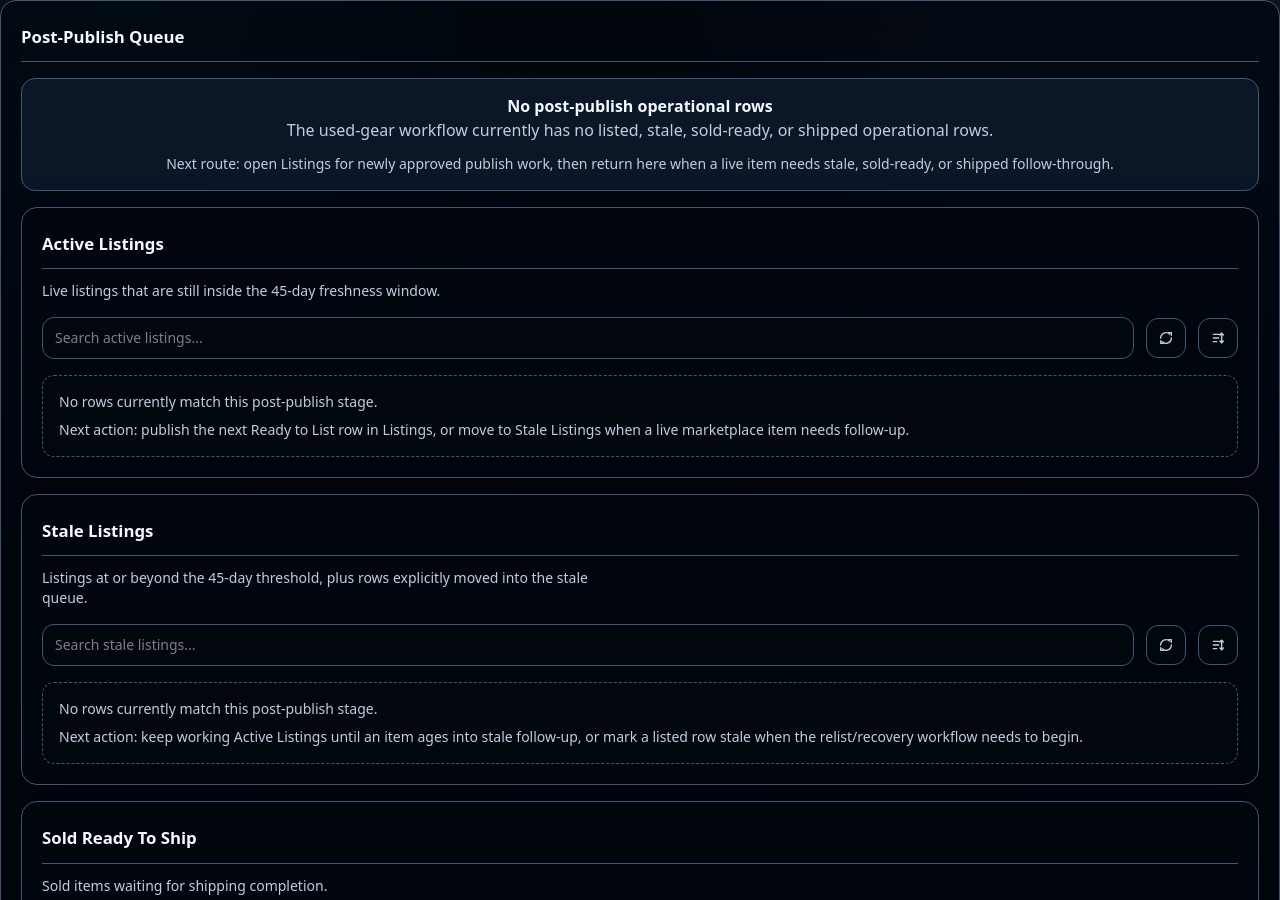
UsedGearWorkflowPostPublishSection › does not present an empty last-successful result as current after refresh fails
Expected: the text "No post-publish operational rows" is shown, [507, 95, 773, 117]
Click the button named "Refresh Active Listings" at (1166, 338), box [1146, 318, 1186, 358]
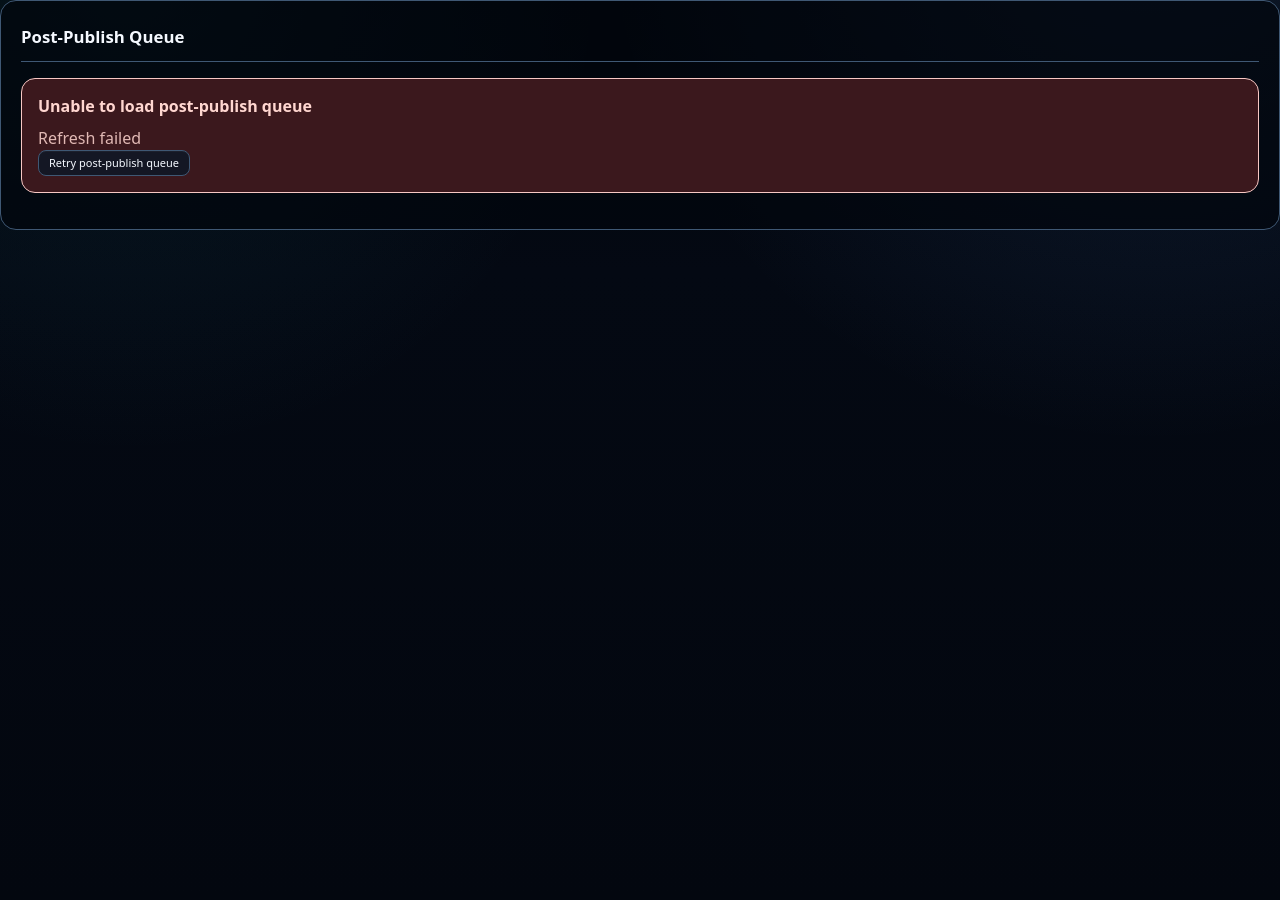
Expected: the text "Refresh failed" is shown, [38, 126, 141, 148]
Expected: the text "No post-publish operational rows" is gone
Expected: the text "No rows currently match this post-publish stage." is gone
